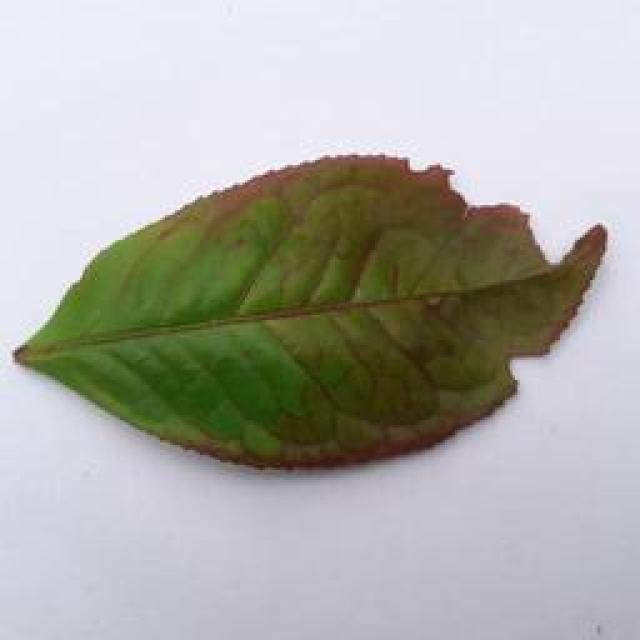Red Leaf Spot: (0, 133, 640, 487)
